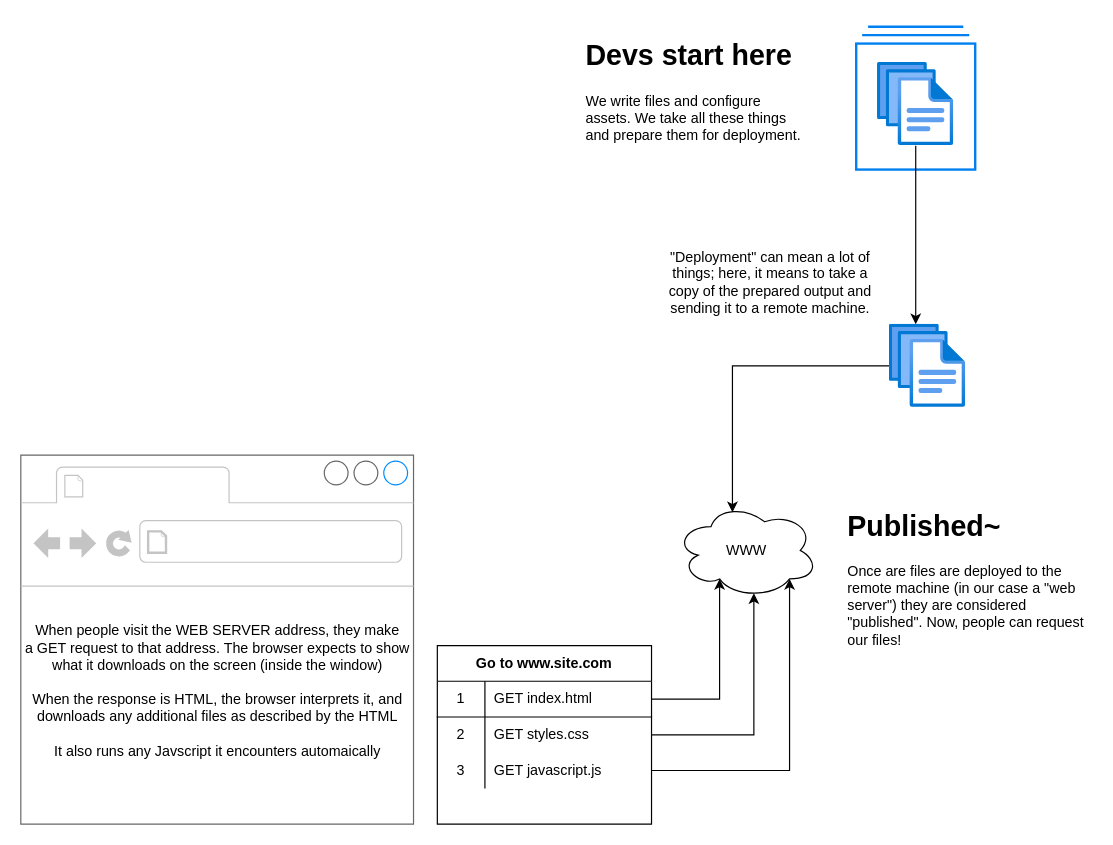
Some shapes in this 1113 by 845 pixel diagram are drawn without their labels. Each missing label, with the centre of its shape:
https://www.draw.io: (323,541)
Page 1: (157,484)
